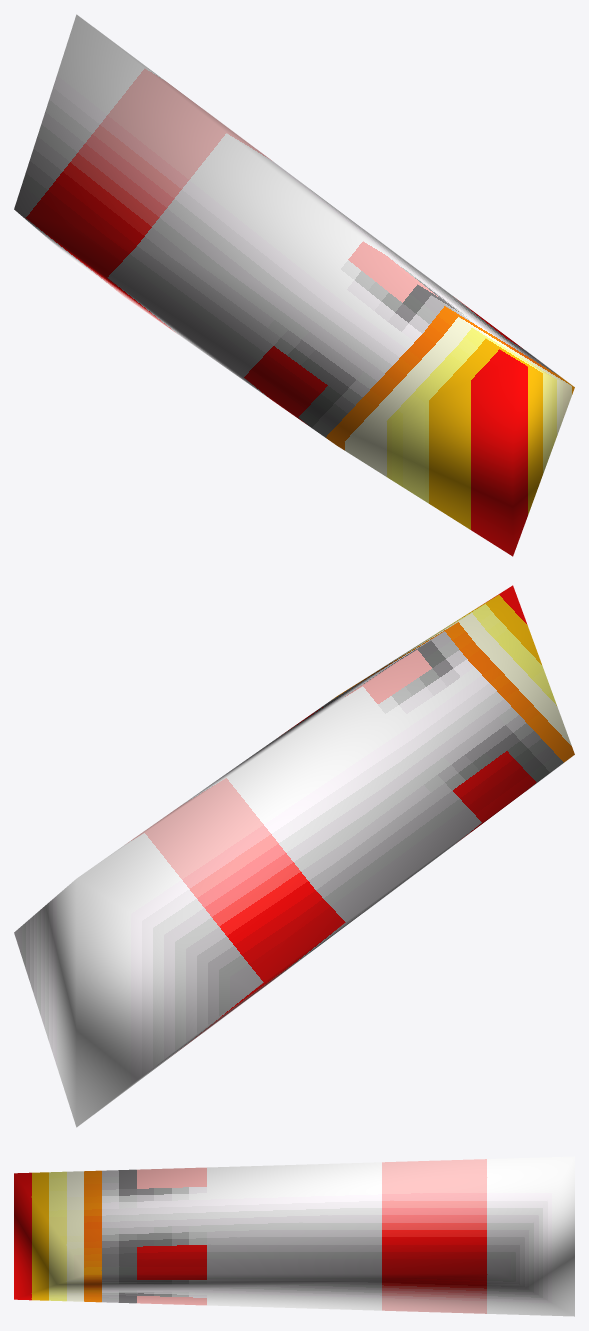
Rendered from OrbitalBombY_Anim.glb.
3 views of the same model, one above another, from view 1: azimuth 30°, elevation 25°; view 2: azimuth 150°, elevation 25°; view 3: azimuth 270°, elevation 25° (orthographic). The views are drawn at different scales.
Visible parts, largest first — view 1: OrbitalBombY_Anim; view 2: OrbitalBombY_Anim; view 3: OrbitalBombY_Anim.
Boxes of the visible parts, box(x1,y1,x2,y2) form: OrbitalBombY_Anim: box(14, 14, 574, 556); OrbitalBombY_Anim: box(14, 585, 574, 1127); OrbitalBombY_Anim: box(14, 1156, 574, 1316).
Bounding box in the file's own units: 3.48 × 3.47 × 11.04.
1 material, 1 textured.
